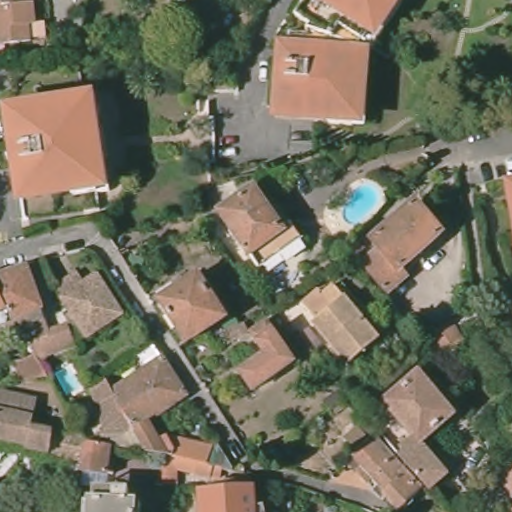pool: (340, 179, 386, 226), (54, 365, 85, 398)
